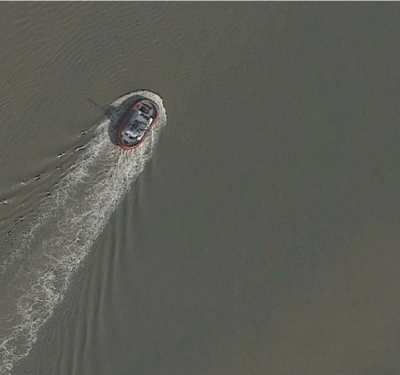boat: (114, 98, 163, 152)
